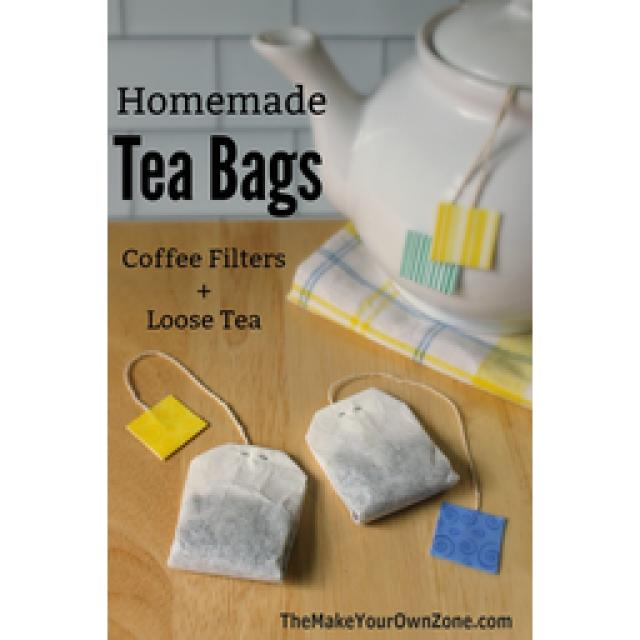tea-bags: (306, 388, 459, 524), (168, 444, 306, 582)
